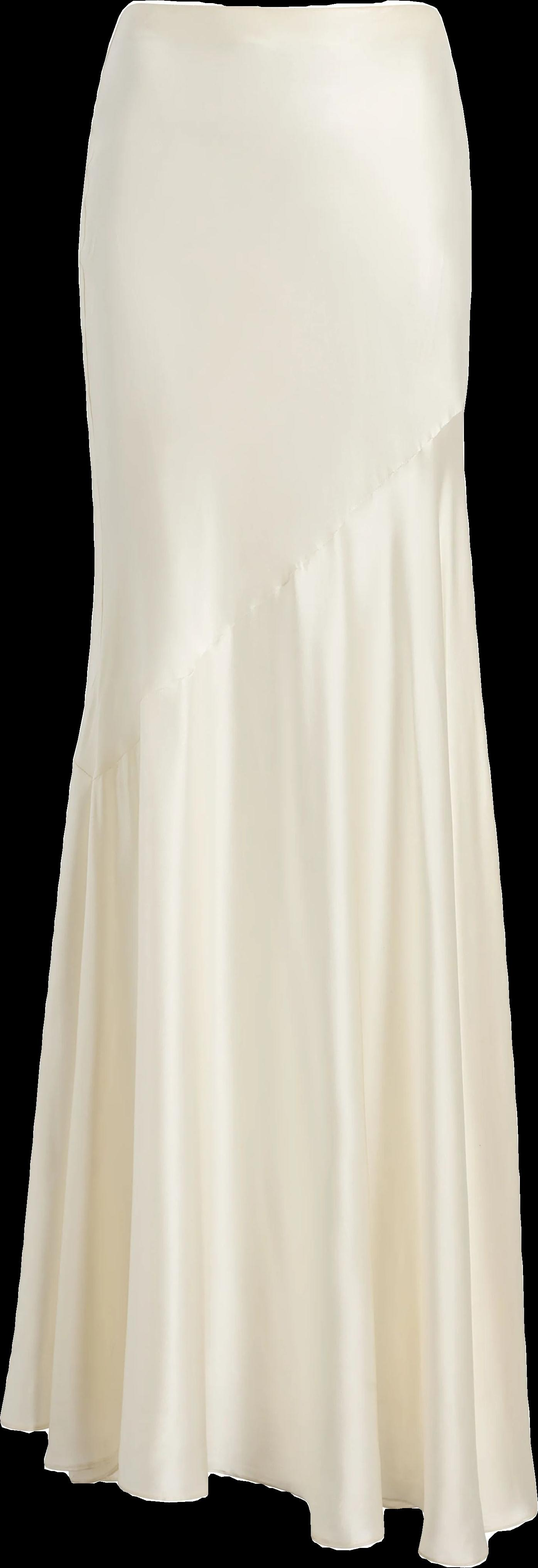Hemline: (0, 1410, 538, 1568)
Waistline: (59, 393, 471, 808), (118, 0, 439, 21)
